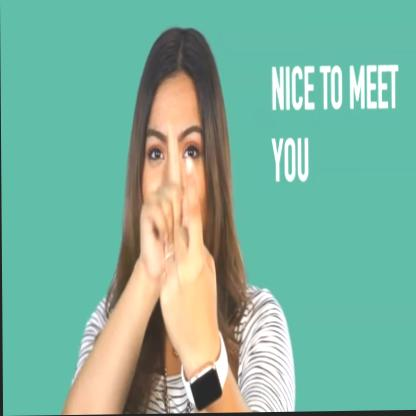NiceToMeetYou: (141, 122, 216, 358)
